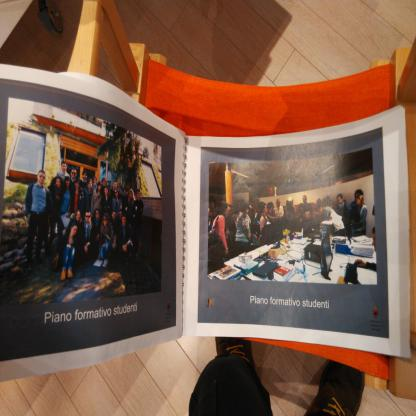book: (0, 72, 411, 382)
